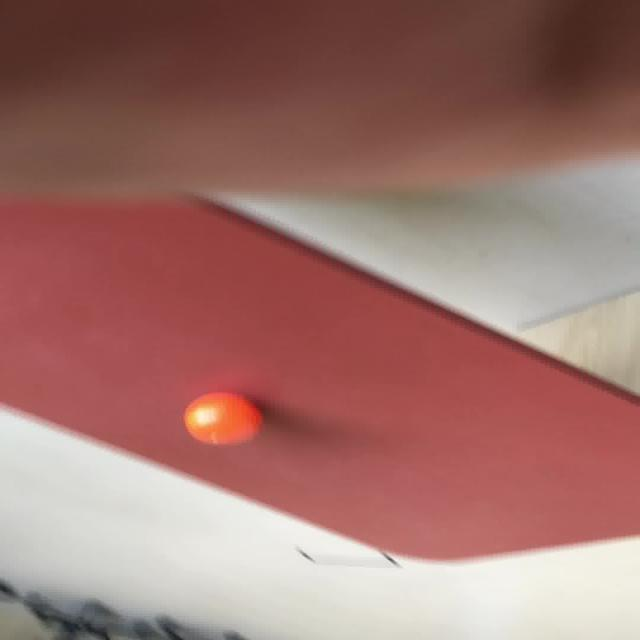orange: (181, 391, 262, 445)
